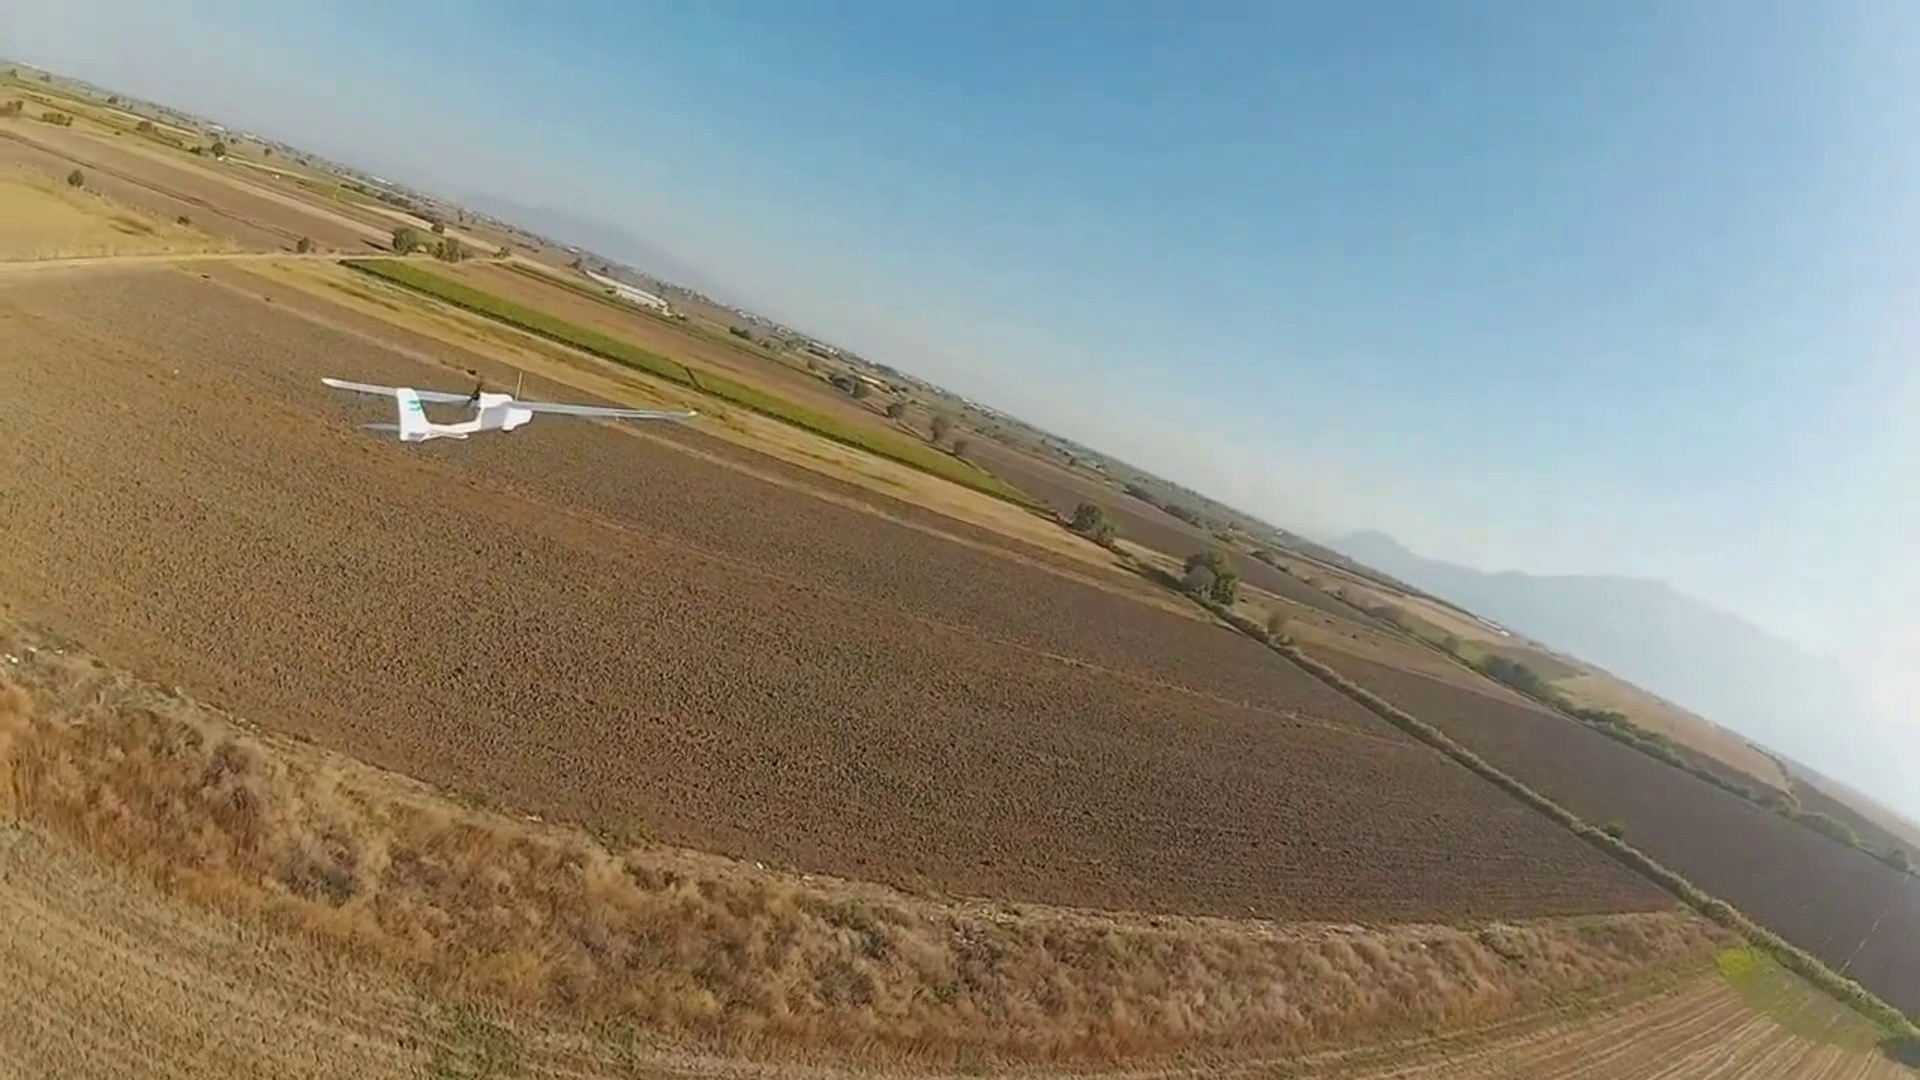airplane: (320, 375, 530, 440)
